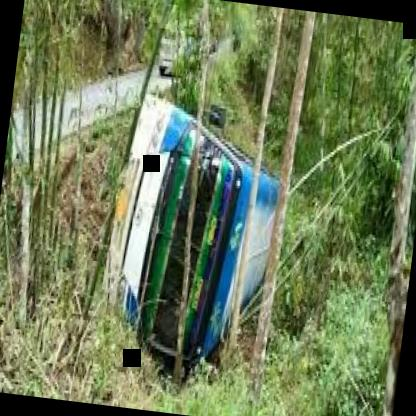accident: (85, 66, 313, 396)
